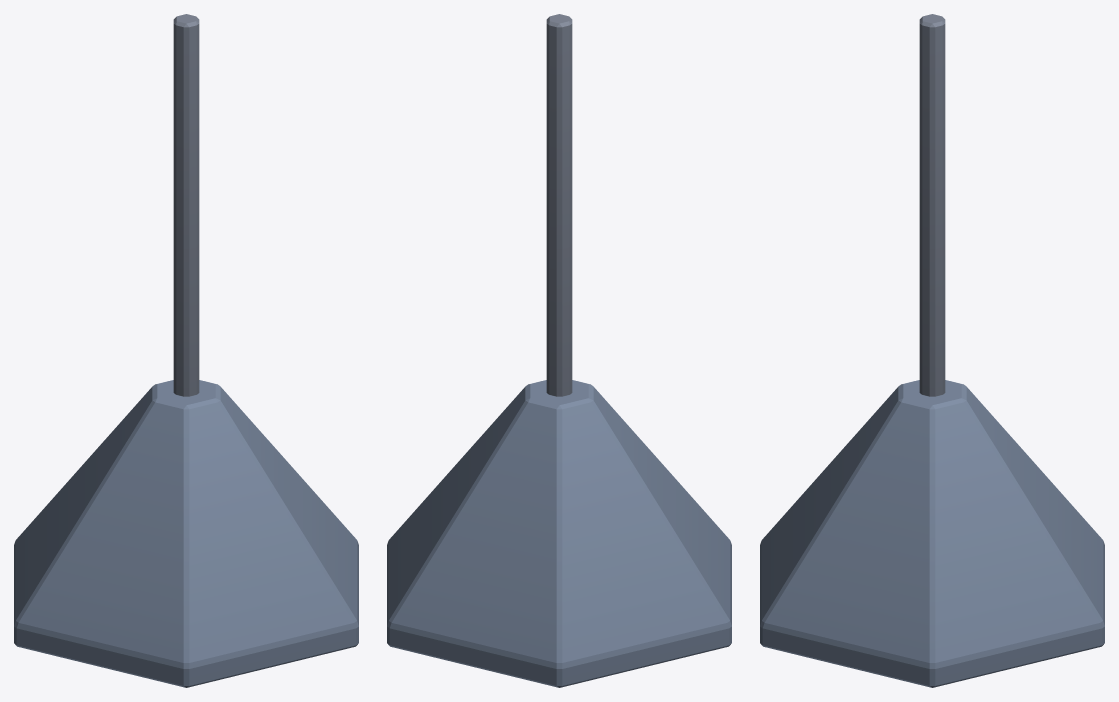
File: ceiling_lamp.glb
3 views of the same model, side by side, from view 1: azimuth 30°, elevation 25°; view 2: azimuth 150°, elevation 25°; view 3: azimuth 270°, elevation 25° (orthographic).
Visible parts, largest first — view 1: ceiling_lamp; view 2: ceiling_lamp; view 3: ceiling_lamp.
Boxes of the visible parts, box(x1,y1,x2,y2) form: ceiling_lamp: box(14, 14, 358, 687); ceiling_lamp: box(387, 14, 731, 687); ceiling_lamp: box(760, 14, 1104, 687).
Bounding box in the file's own units: 0.3175 × 0.52 × 0.2771.
2 materials, 2 textured.
